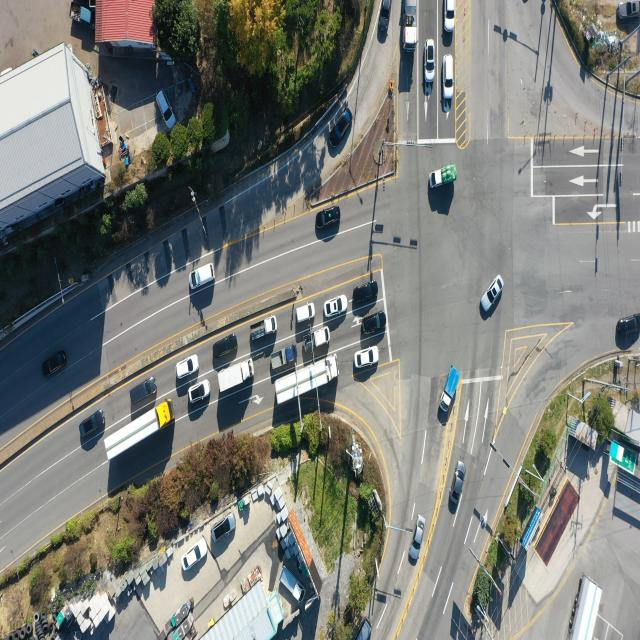car: (330, 107, 354, 151), (312, 203, 344, 236), (448, 462, 466, 512), (157, 88, 177, 129), (409, 514, 426, 562), (481, 276, 503, 313), (182, 540, 207, 572), (78, 410, 104, 440), (130, 376, 157, 403), (42, 350, 66, 378), (192, 264, 216, 292), (212, 516, 235, 545), (213, 336, 238, 360), (361, 314, 386, 337), (352, 282, 378, 304), (378, 0, 391, 44), (176, 354, 199, 378), (354, 348, 378, 370), (190, 378, 212, 402), (324, 297, 346, 319), (425, 41, 436, 83), (617, 315, 640, 335), (444, 54, 454, 99), (618, 0, 640, 20), (294, 304, 314, 325), (445, 0, 456, 32)
medium_truck: (105, 399, 172, 462), (272, 352, 338, 405), (565, 578, 601, 640), (218, 359, 254, 393), (406, 0, 421, 49)
small_truck: (437, 363, 459, 415), (280, 566, 304, 606), (252, 317, 279, 344), (269, 344, 297, 370), (429, 166, 457, 191), (304, 327, 330, 353), (70, 1, 93, 27)
